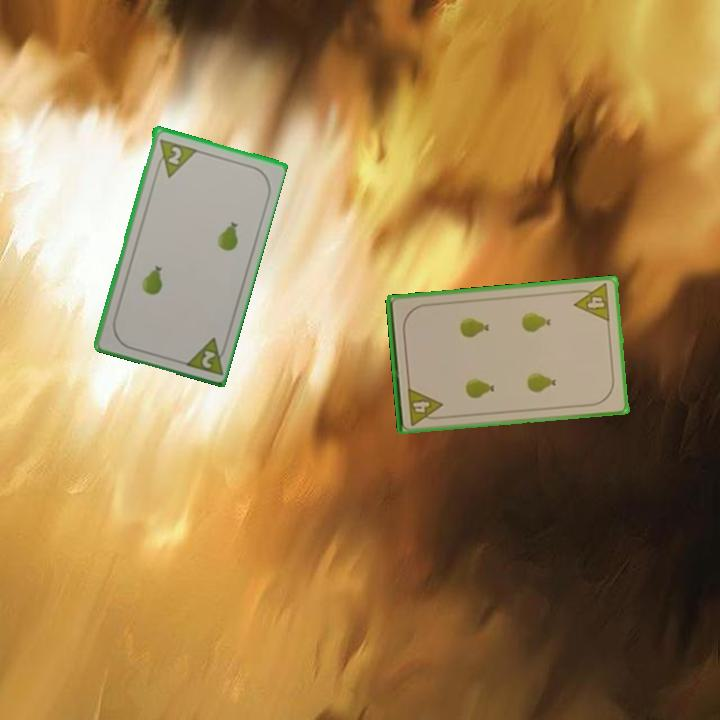2p: (180, 333, 230, 378), (151, 135, 198, 180)
4p: (570, 280, 613, 325), (404, 383, 446, 428)
